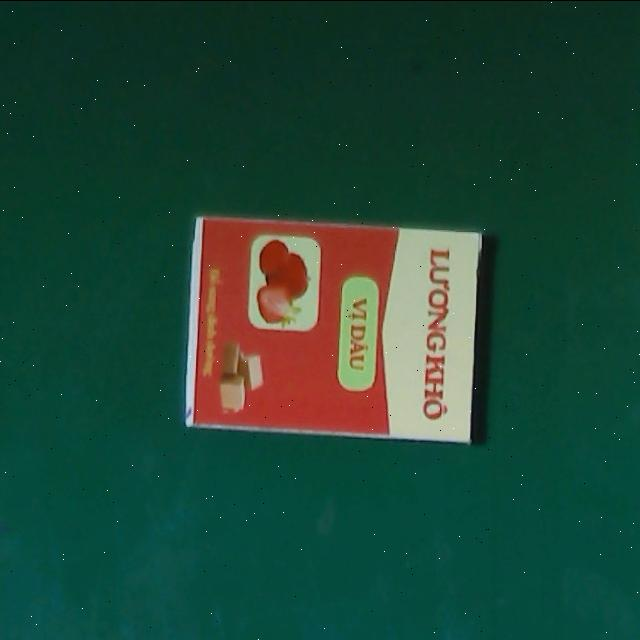dau: (181, 212, 482, 444)
